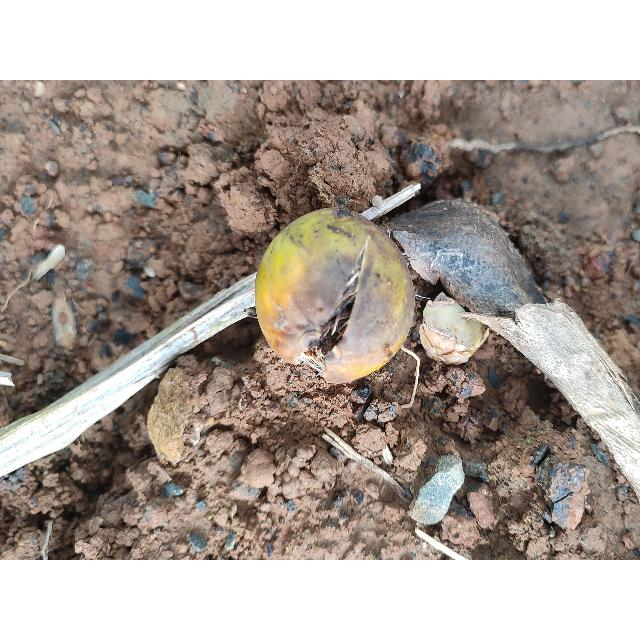damaged: (254, 208, 419, 387)
